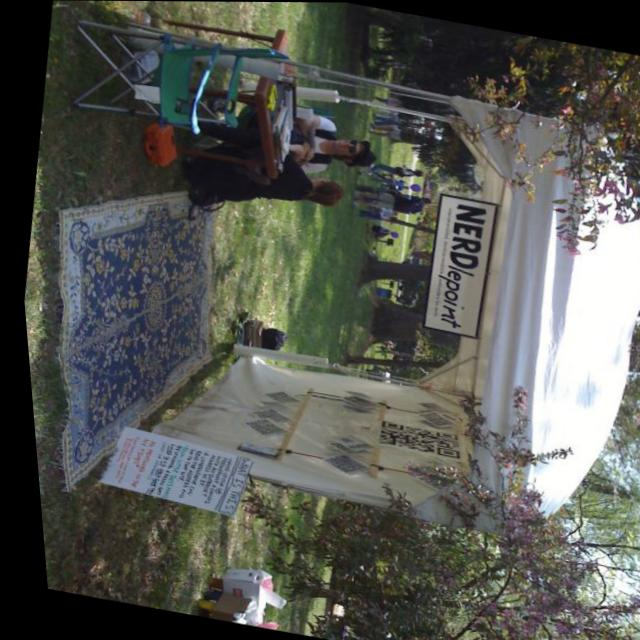qrcode: (370, 420, 457, 458)
